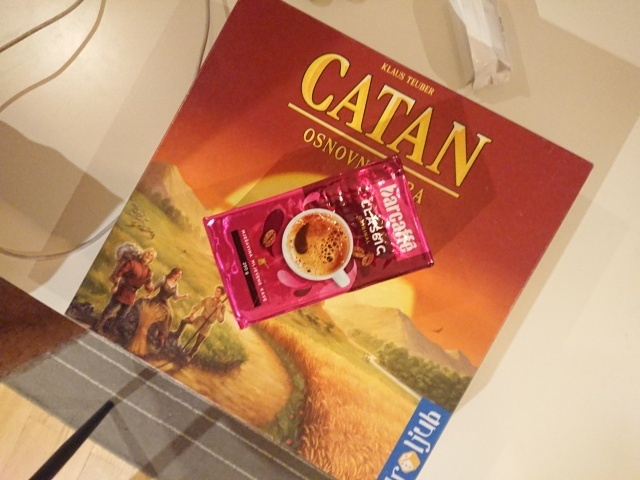Barcaffe Classic Original 225g: (200, 151, 437, 333)
